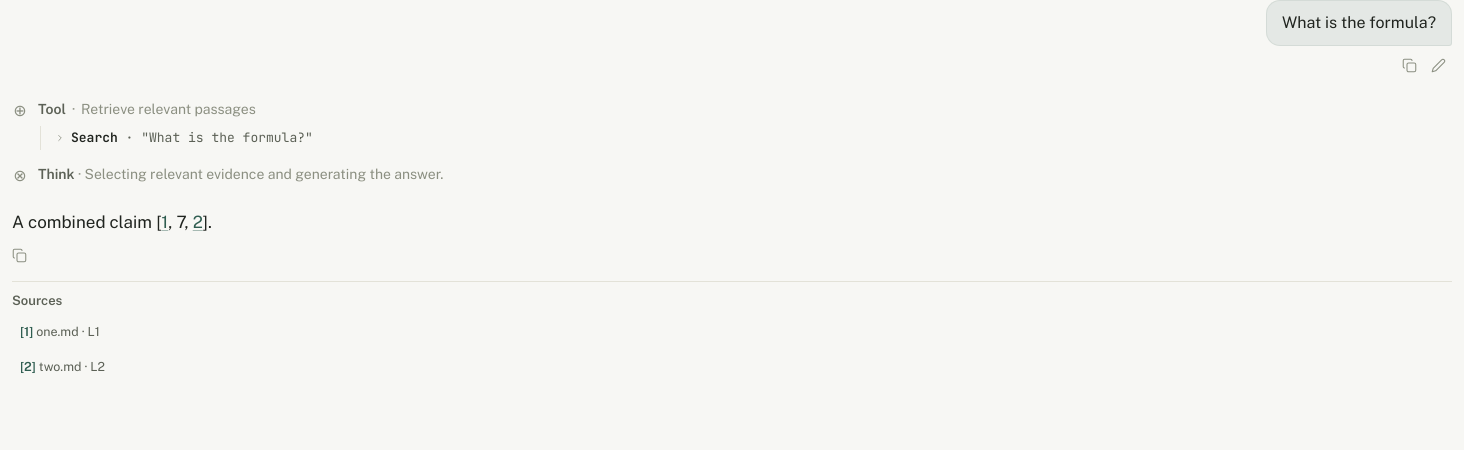
it: TurnCard › opens each mapped source in a grouped citation and leaves unknown numbers unlinked
Click the link named "Source 2: two.md, line 2" at (198, 222), box [193,212,203,232]
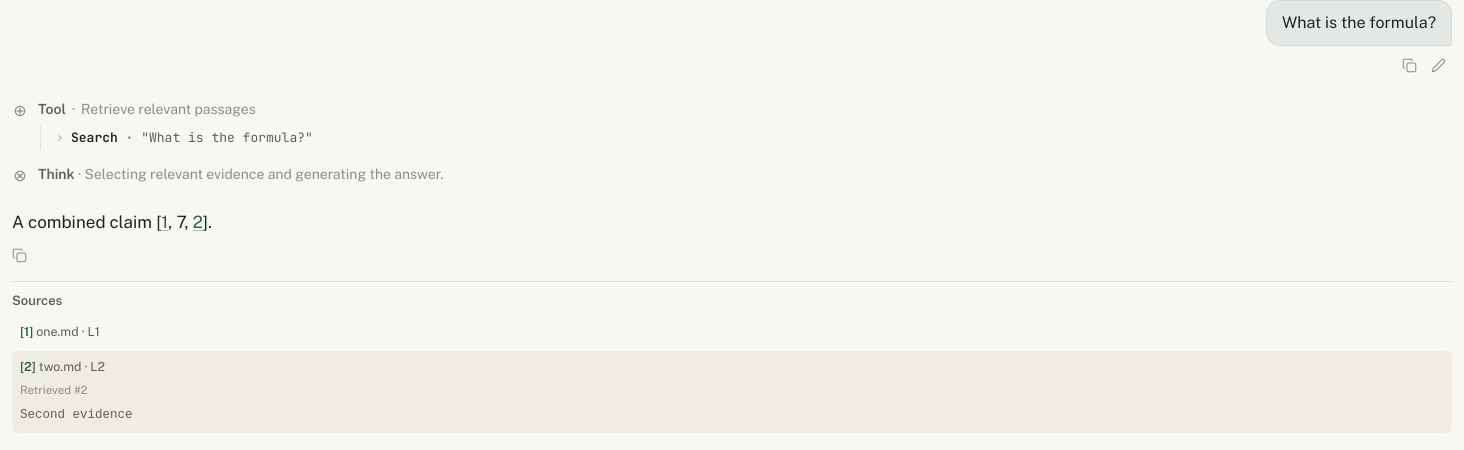
Expected: the text "A combined claim [ 1 , 7, 2 ]." is shown, [12,212,212,232]
Expected: the text "Second evidence" is shown, [20,408,132,422]
